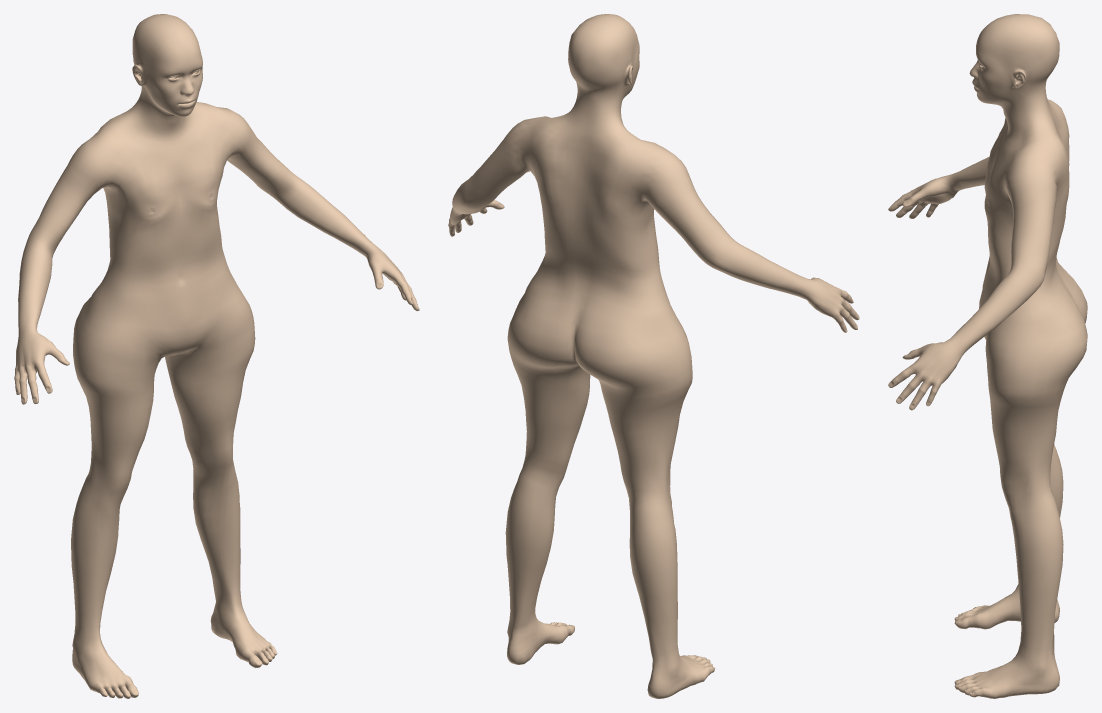
Rendered from male_Pear.glb.
3 views of the same model, side by side, from view 1: azimuth 30°, elevation 25°; view 2: azimuth 150°, elevation 25°; view 3: azimuth 270°, elevation 25° (orthographic).
Visible parts, largest first — view 1: male_Pear; view 2: male_Pear; view 3: male_Pear.
Boxes of the visible parts, x1,y1,x2,y2 form: male_Pear: [14, 14, 419, 698]; male_Pear: [448, 14, 859, 698]; male_Pear: [888, 14, 1087, 698].
Bounding box in the file's own units: 1.11 × 1.73 × 0.4876.
